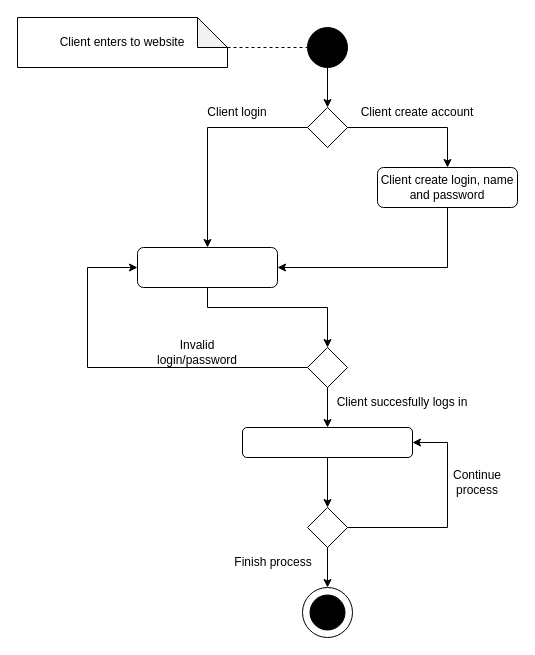
This 535x655 diagram has some shape labels left out. The shapes that lost their labels are listed below. From the top down, each one's centre as x and y in pixels, then its label:
At (207,267): "Client enters login, name and password".
At (327,442): "Expand menu".
